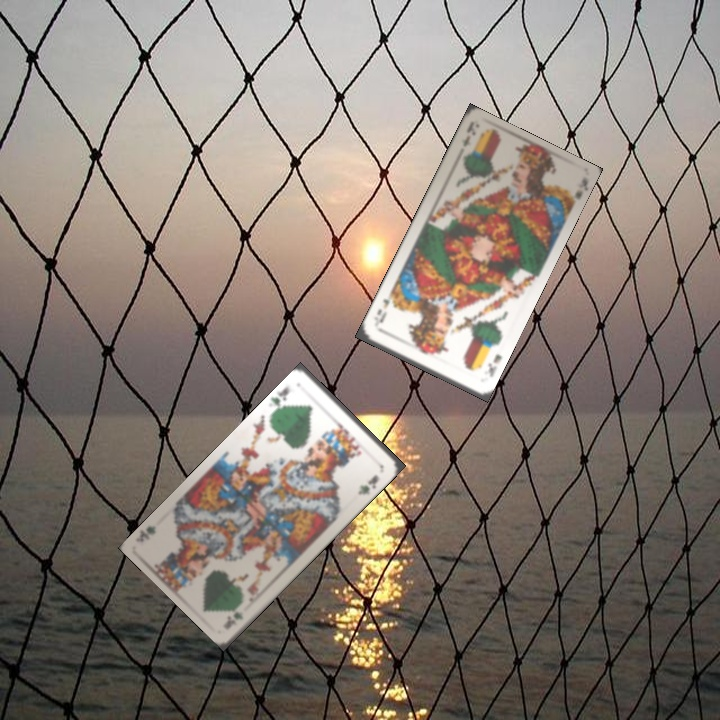EK: (483, 350, 504, 380), (458, 120, 479, 149)
GK: (268, 382, 292, 414), (225, 608, 246, 628)
